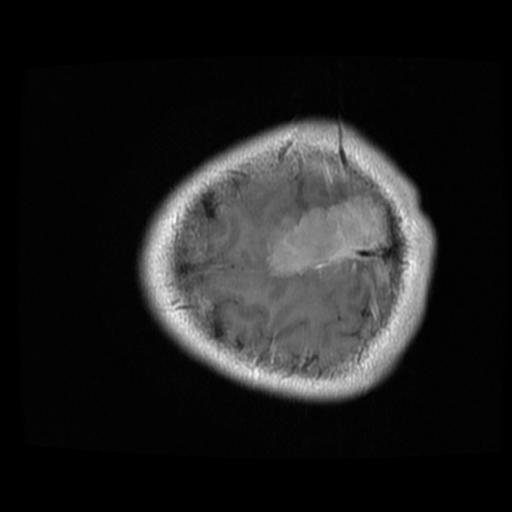meningioma: (267, 196, 389, 275)
